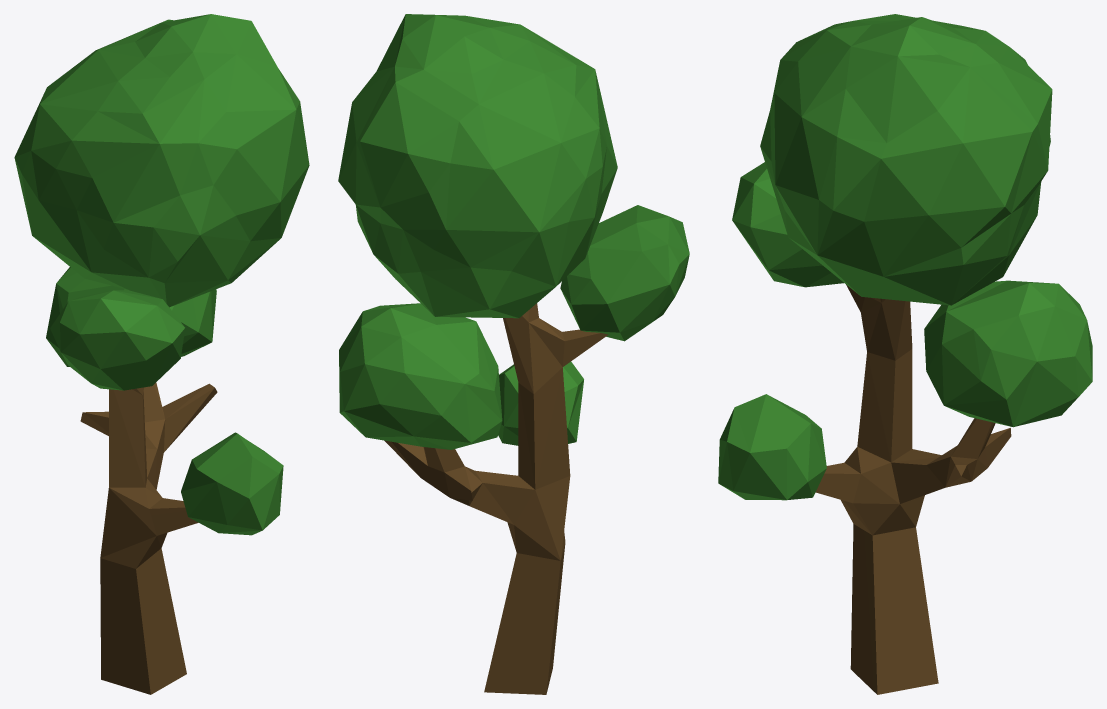
The model's file is tree_4.glb.
3 views of the same model, side by side, from view 1: azimuth 30°, elevation 25°; view 2: azimuth 150°, elevation 25°; view 3: azimuth 270°, elevation 25° (orthographic). The views are drawn at different scales.
Parts seen in each view (by area): view 1: 9; view 2: 9; view 3: 9.
Part boxes in pixels (x1=…): 9: x1=14, y1=14, x2=309, y2=694; 9: x1=338, y1=14, x2=689, y2=694; 9: x1=718, y1=14, x2=1092, y2=694.
Size of the model in its own units: 10.25 by 23.64 by 11.63.
